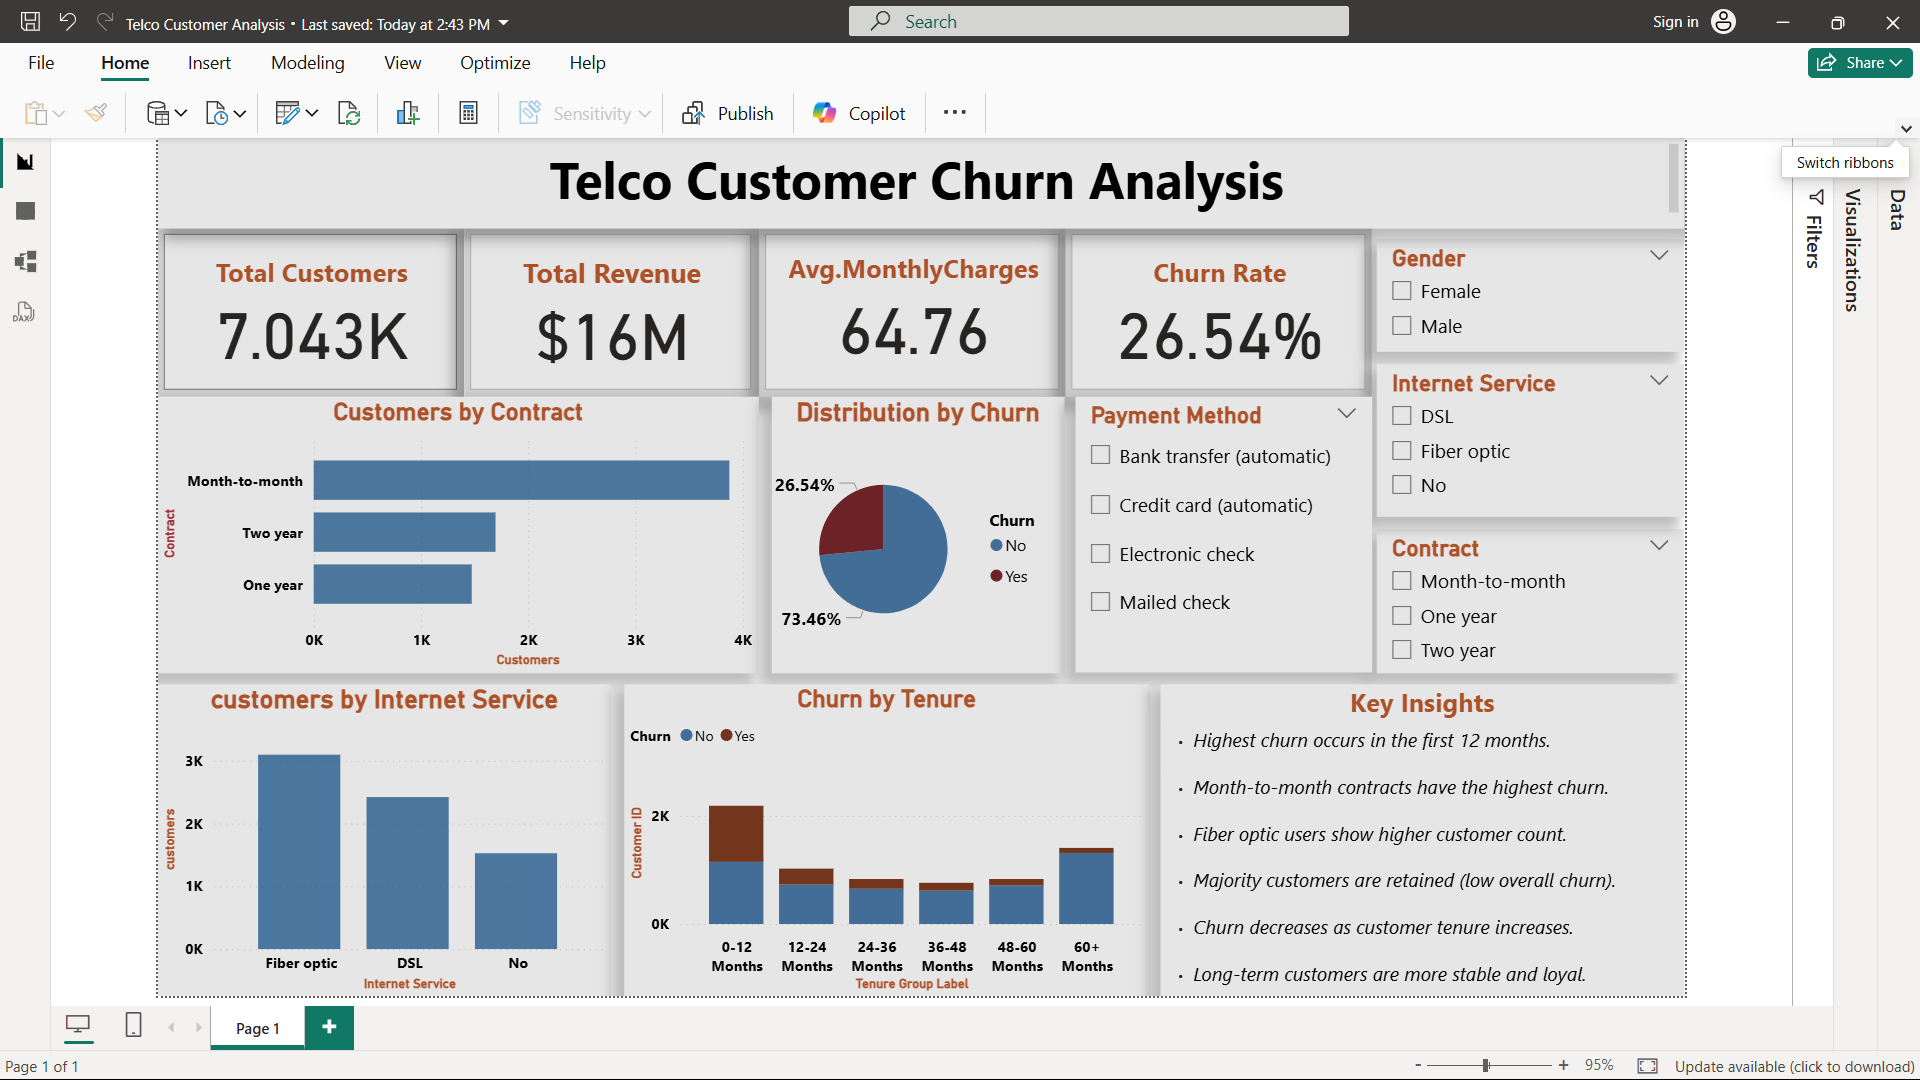

This screenshot's page, from the dashboard's own definition file:
{"tool":"powerbi","page":{"name":"Page 1","canvas":[1280,720],"ordinal":0},"visuals":[{"type":"cardVisual","fields":{"Data":["CountNonNull(Telco-Customer-Churn.customerID)"]},"box":[0,75.5,256.6,141.3],"z":0},{"type":"cardVisual","fields":{"Data":["Sum(Telco-Customer-Churn.TotalCharges)"]},"box":[256.6,75.5,247,141.3],"z":1000},{"type":"cardVisual","fields":{"Data":["Avg(Telco-Customer-Churn.MonthlyCharges)"]},"box":[504.3,75.7,257.1,141.4],"z":2000},{"type":"cardVisual","fields":{"Data":["Telco-Customer-Churn.Churn Rate"]},"box":[761.4,75.7,257.1,141.4],"z":3000},{"type":"clusteredBarChart","fields":{"Y":["CountNonNull(Telco-Customer-Churn.customerID)"],"Category":["Telco-Customer-Churn.Contract"]},"box":[0,216.8,503.6,231.9],"z":4000},{"type":"clusteredColumnChart","fields":{"Category":["Telco-Customer-Churn.InternetService"],"Y":["CountNonNull(Telco-Customer-Churn.customerID)"]},"box":[0,458.3,380.1,262.1],"z":5000},{"type":"pieChart","fields":{"Category":["Telco-Customer-Churn.Churn"],"Y":["CountNonNull(Telco-Customer-Churn.customerID)"]},"box":[514.6,216.8,245.6,231.9],"z":6000},{"type":"slicer","fields":{"Values":["Telco-Customer-Churn.gender"]},"box":[1022.3,85.1,258,94.7],"z":7000},{"type":"slicer","fields":{"Values":["Telco-Customer-Churn.Contract"]},"box":[1022.3,328,258,120.8],"z":8000},{"type":"slicer","fields":{"Values":["Telco-Customer-Churn.InternetService"]},"box":[1022.3,189.4,258,127.6],"z":9000},{"type":"slicer","fields":{"Values":["Telco-Customer-Churn.PaymentMethod"]},"box":[770,217.1,248.6,231.4],"z":10000},{"type":"columnChart","title":"Churn by Tenure","fields":{"Y":["CountNonNull(Telco-Customer-Churn.customerID)"],"Series":["Telco-Customer-Churn.Churn"],"Category":["Telco-Customer-Churn.Tenure Group Label"]},"box":[391.1,458.3,440.5,262.1],"z":11000},{"type":"textbox","box":[0,0,1280,75.7],"z":12000},{"type":"textbox","title":"Key Insights","box":[841.2,458.3,439.1,262.1],"z":13000}]}

Visuals, with their boxes on the page's 1280x720 design canvas (x1, y1, x2, y2). These are canvas units, not pixel positions in the 1920x1080 screenshot, which may show the page scaled, cropped or inside an application window:
cardVisual - CountNonNull(Telco-Customer-Churn.customerID): pyautogui.locateOnScreen(0, 76, 257, 217)
cardVisual - Sum(Telco-Customer-Churn.TotalCharges): pyautogui.locateOnScreen(257, 76, 504, 217)
cardVisual - Avg(Telco-Customer-Churn.MonthlyCharges): pyautogui.locateOnScreen(504, 76, 761, 217)
cardVisual - Telco-Customer-Churn.Churn Rate: pyautogui.locateOnScreen(761, 76, 1018, 217)
clusteredBarChart - CountNonNull(Telco-Customer-Churn.customerID) x Telco-Customer-Churn.Contract: pyautogui.locateOnScreen(0, 217, 504, 449)
clusteredColumnChart - Telco-Customer-Churn.InternetService x CountNonNull(Telco-Customer-Churn.customerID): pyautogui.locateOnScreen(0, 458, 380, 720)
pieChart - Telco-Customer-Churn.Churn x CountNonNull(Telco-Customer-Churn.customerID): pyautogui.locateOnScreen(515, 217, 760, 449)
slicer - Telco-Customer-Churn.gender: pyautogui.locateOnScreen(1022, 85, 1280, 180)
slicer - Telco-Customer-Churn.Contract: pyautogui.locateOnScreen(1022, 328, 1280, 449)
slicer - Telco-Customer-Churn.InternetService: pyautogui.locateOnScreen(1022, 189, 1280, 317)
slicer - Telco-Customer-Churn.PaymentMethod: pyautogui.locateOnScreen(770, 217, 1019, 448)
"Churn by Tenure" columnChart: pyautogui.locateOnScreen(391, 458, 832, 720)
textbox: pyautogui.locateOnScreen(0, 0, 1280, 76)
"Key Insights" textbox: pyautogui.locateOnScreen(841, 458, 1280, 720)
